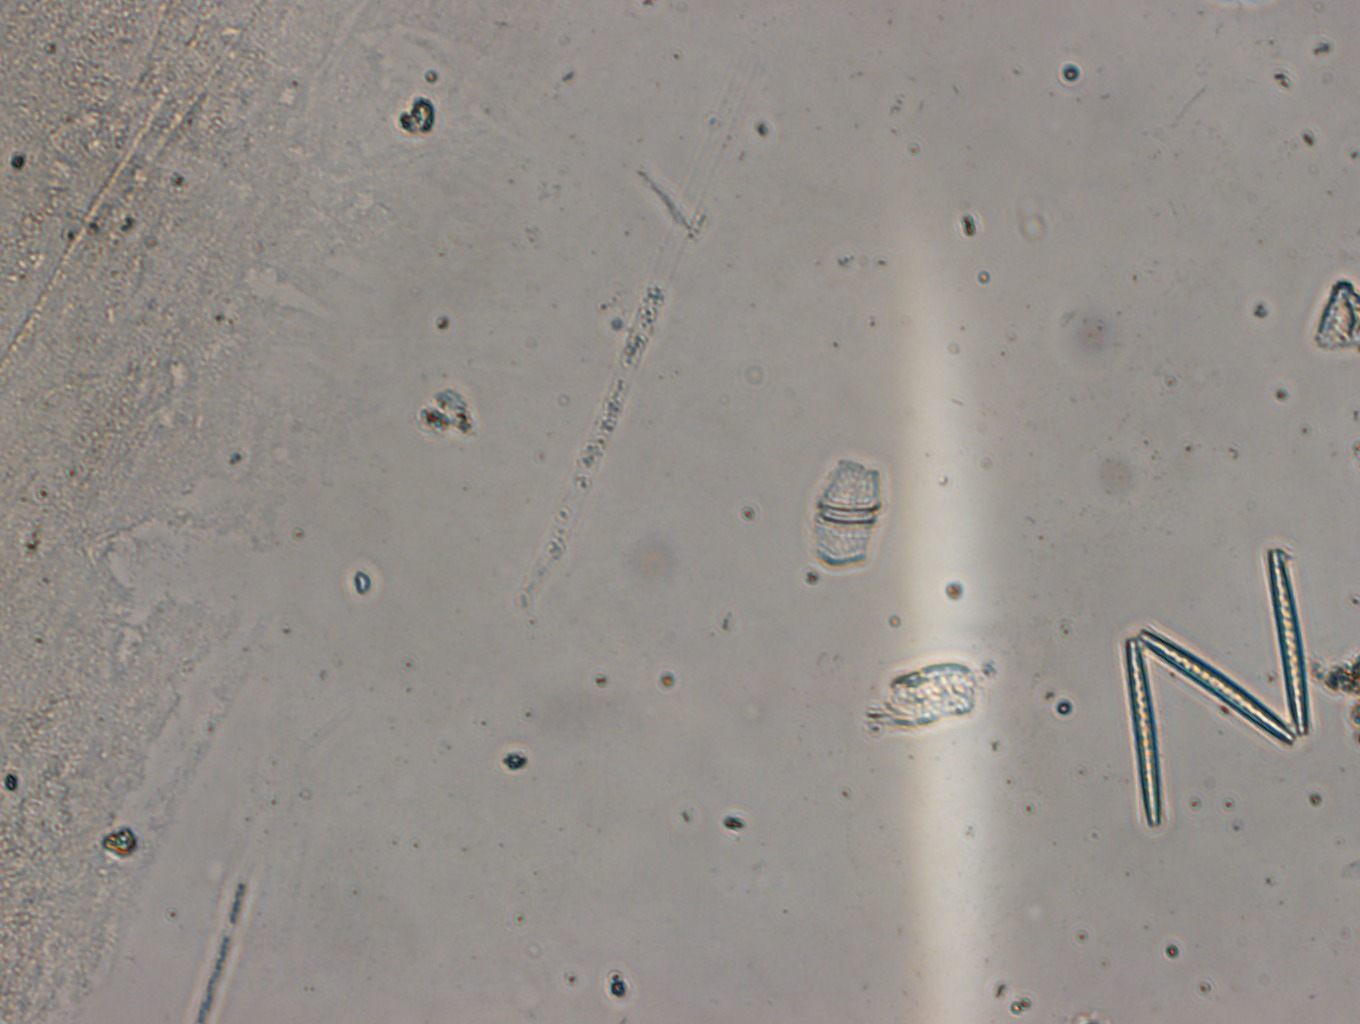thalassionema nitzschioides: (1112, 541, 1325, 833)
